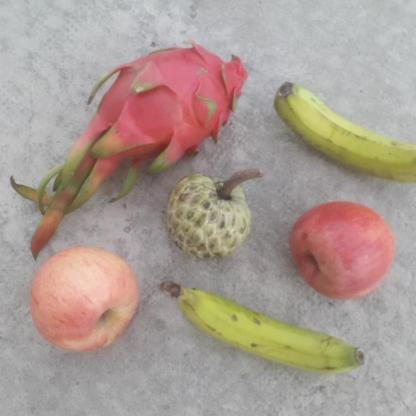annona: (162, 171, 255, 263)
apple: (30, 246, 140, 360), (286, 199, 398, 302)
banana: (158, 280, 372, 380), (272, 81, 416, 189)
pitaya: (87, 38, 253, 168)
